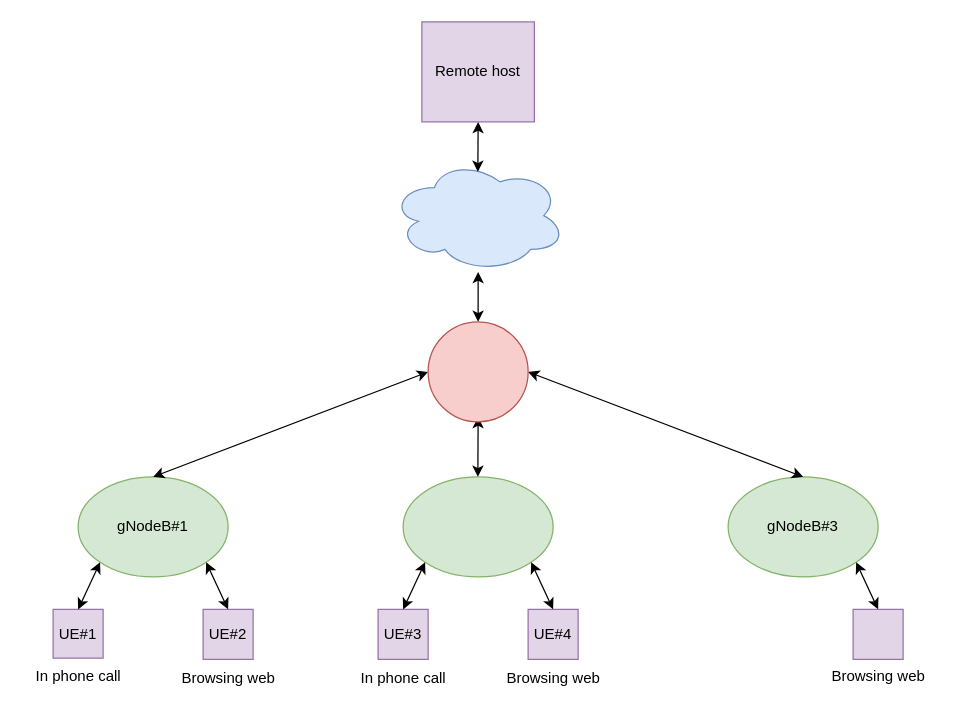
The diagram is 961 pixels wide and 719 high, and some of its shapes have lost their labels. The shapes that lost their labels are listed below. From the top down, each one's centre as x and y in pixels, then its label:
At [477,215]: "Internet".
At [477,371]: "Core".
At [477,526]: "gNodeB#2".
At [877,633]: "UE#5".
